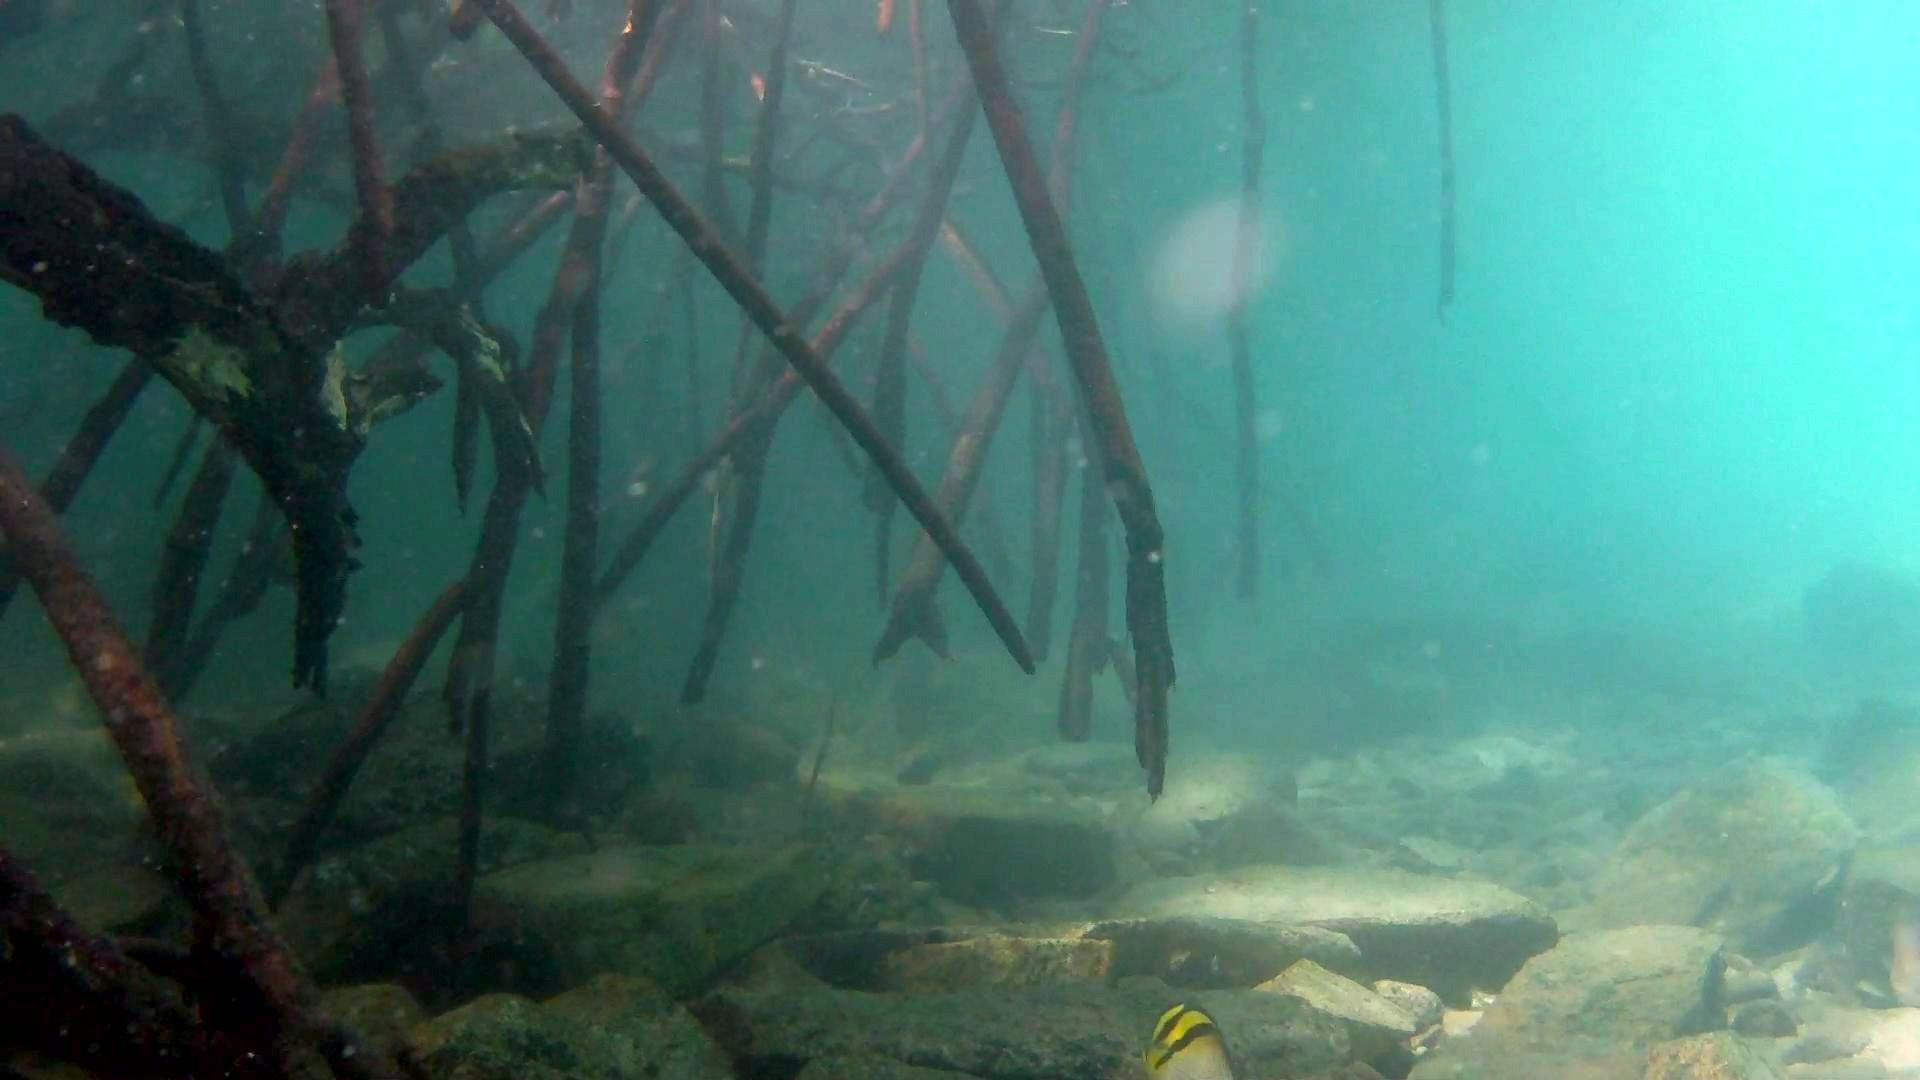chaetodon vagabundus: (1138, 1000, 1242, 1080)
